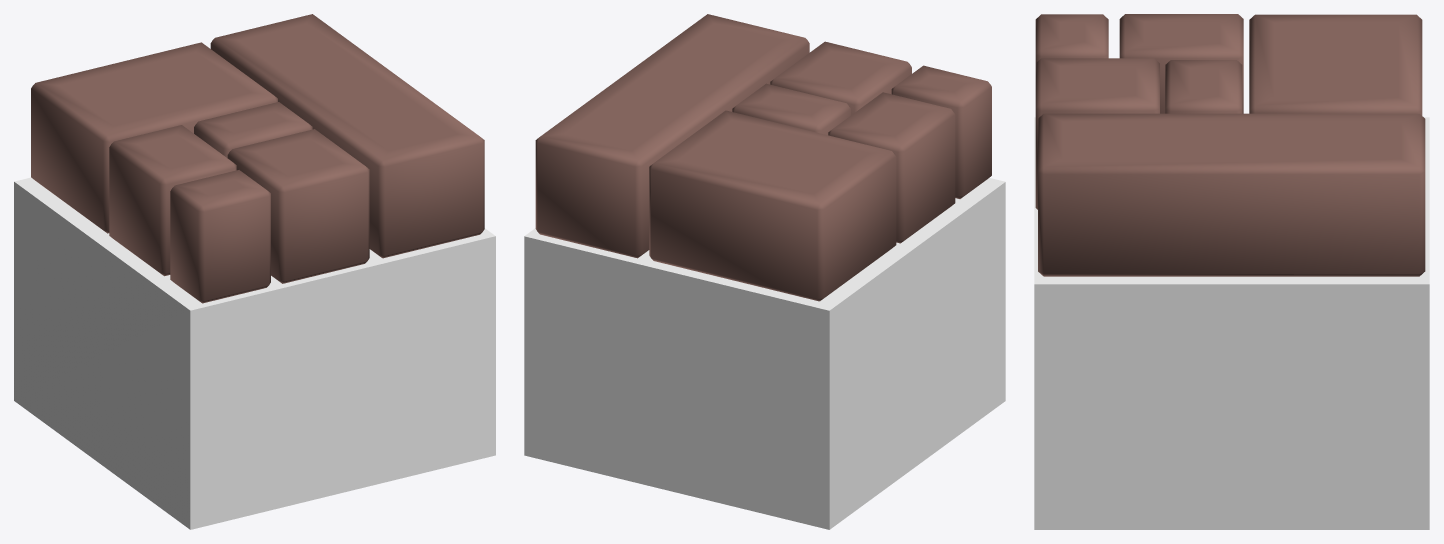
File: Floor20.fbx
3 renders of one model, left to right at view 1: azimuth 30°, elevation 25°; view 2: azimuth 150°, elevation 25°; view 3: azimuth 270°, elevation 25°, orthographic. The views are drawn at different scales.
Parts seen in each view (by area): view 1: Cube.292; view 2: Cube.292; view 3: Cube.292.
Part boxes in pixels (x1,y1,x2,y2): Cube.292: [14, 14, 495, 529]; Cube.292: [524, 14, 1005, 529]; Cube.292: [1034, 14, 1429, 529].
Bounding box in the file's own units: 100 × 99.65 × 100.
